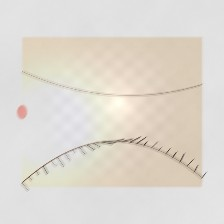hemorrhage_spot: (116, 91, 178, 141)
